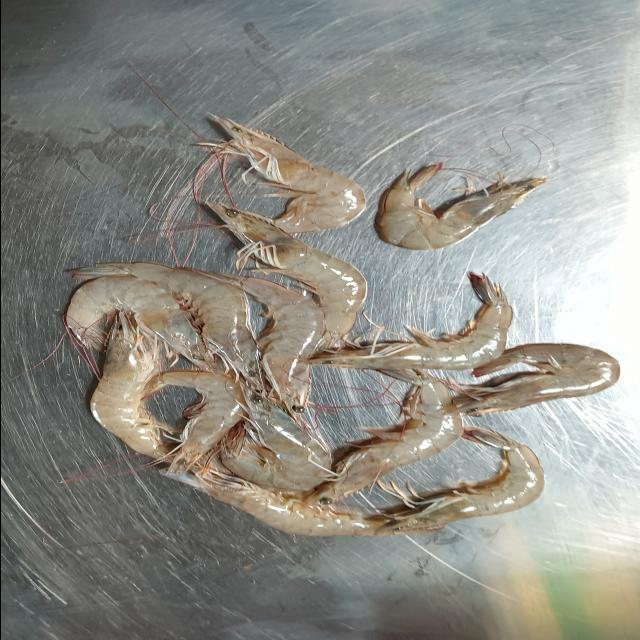shrimp: (206, 202, 366, 348), (306, 370, 463, 505), (100, 262, 264, 389), (308, 272, 512, 370), (200, 115, 366, 234), (374, 428, 543, 535), (197, 271, 323, 412), (189, 463, 422, 536), (67, 275, 222, 371), (377, 164, 545, 250), (443, 344, 618, 416), (219, 390, 332, 491), (91, 312, 169, 458), (146, 371, 244, 471)
